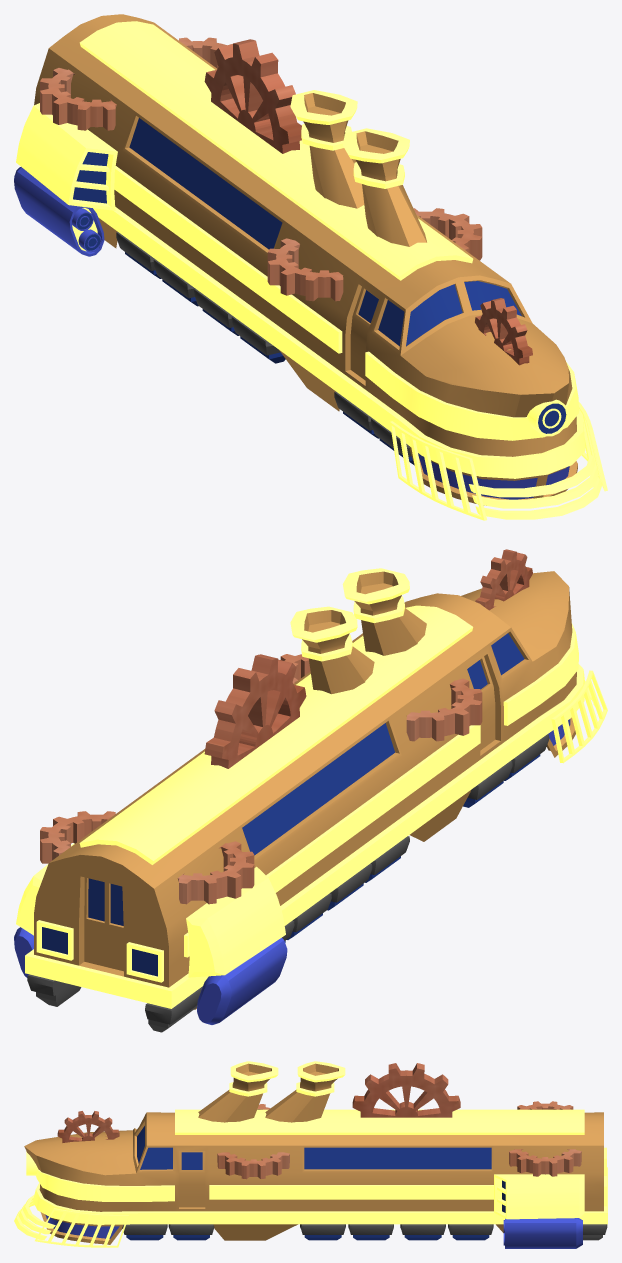
File: Train.fbx
3 views of the same model, one above another, from view 1: azimuth 30°, elevation 25°; view 2: azimuth 150°, elevation 25°; view 3: azimuth 270°, elevation 25° (orthographic). The views are drawn at different scales.
Parts seen in each view (by area): view 1: Cube, Cube.002, Gear-8SPORK.001, Cube.003, Cube.004, Gear.RING, Cube.001, Circle.001, Gear.RING.001, Gear-8SPORK, Circle; view 2: Cube, Cube.002, Gear-8SPORK.001, Cube.001, Cube.004, Cube.003, Gear.RING.001, Circle.001, Gear.RING, Gear-8SPORK; view 3: Cube, Cube.001, Cube.002, Gear-8SPORK.001, Cube.003, Cube.004, Circle.001, Gear.RING.001, Gear.RING, Gear-8SPORK.
Boxes of the visible parts, left/top/right/bottom form: Cube: left=34, top=14, right=607, bottom=520; Cube.002: left=16, top=103, right=117, bottom=210; Gear-8SPORK.001: left=204, top=39, right=301, bottom=153; Cube.003: left=343, top=128, right=426, bottom=246; Cube.004: left=290, top=90, right=364, bottom=208; Gear.RING: left=267, top=208, right=482, bottom=301; Cube.001: left=116, top=232, right=414, bottom=464; Circle.001: left=14, top=167, right=104, bottom=256; Gear.RING.001: left=40, top=37, right=232, bottom=130; Gear-8SPORK: left=475, top=298, right=532, bottom=365; Circle: left=527, top=399, right=568, bottom=436; Cube: left=25, top=571, right=607, bottom=1009; Cube.002: left=16, top=843, right=285, bottom=977; Gear-8SPORK.001: left=204, top=654, right=306, bottom=768; Cube.001: left=27, top=734, right=549, bottom=1032; Cube.004: left=290, top=606, right=374, bottom=694; Cube.003: left=342, top=568, right=426, bottom=655; Gear.RING.001: left=40, top=811, right=254, bottom=904; Circle.001: left=14, top=927, right=287, bottom=1024; Gear.RING: left=280, top=654, right=482, bottom=741; Gear-8SPORK: left=475, top=549, right=532, bottom=610; Cube: left=14, top=1109, right=607, bottom=1247; Cube.001: left=122, top=1224, right=607, bottom=1240; Cube.002: left=494, top=1174, right=584, bottom=1219; Gear-8SPORK.001: left=352, top=1063, right=460, bottom=1117; Cube.003: left=198, top=1061, right=278, bottom=1122; Cube.004: left=265, top=1061, right=345, bottom=1122; Circle.001: left=503, top=1218, right=582, bottom=1248; Gear.RING.001: left=509, top=1101, right=581, bottom=1176; Gear.RING: left=217, top=1104, right=289, bottom=1179; Gear-8SPORK: left=57, top=1111, right=119, bottom=1142.
Bounding box in the file's own units: 322 × 354 × 1190.
